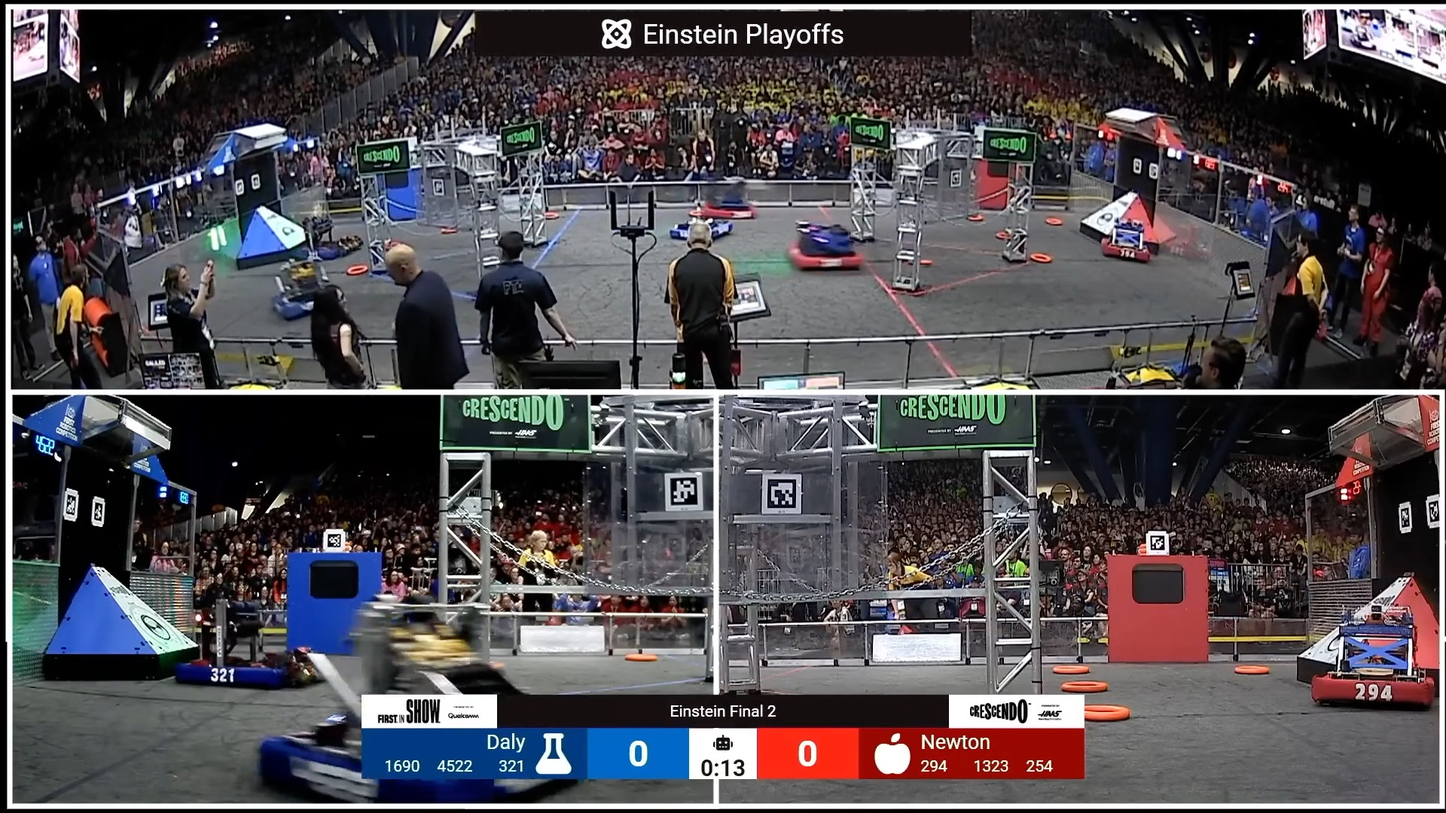bumpers: (254, 724, 589, 803), (1312, 669, 1440, 706), (783, 233, 875, 280), (177, 659, 304, 690), (269, 286, 348, 320), (666, 215, 739, 247), (296, 237, 364, 262), (1099, 238, 1154, 261), (692, 202, 758, 218)
